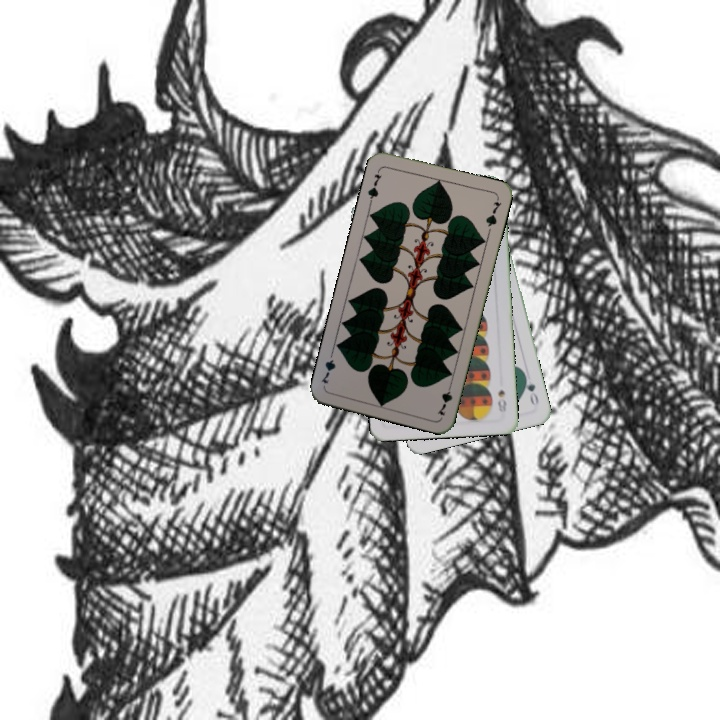G7: (434, 378, 455, 418), (364, 165, 384, 205)
GO: (520, 370, 541, 409)
S8: (493, 385, 509, 415)
